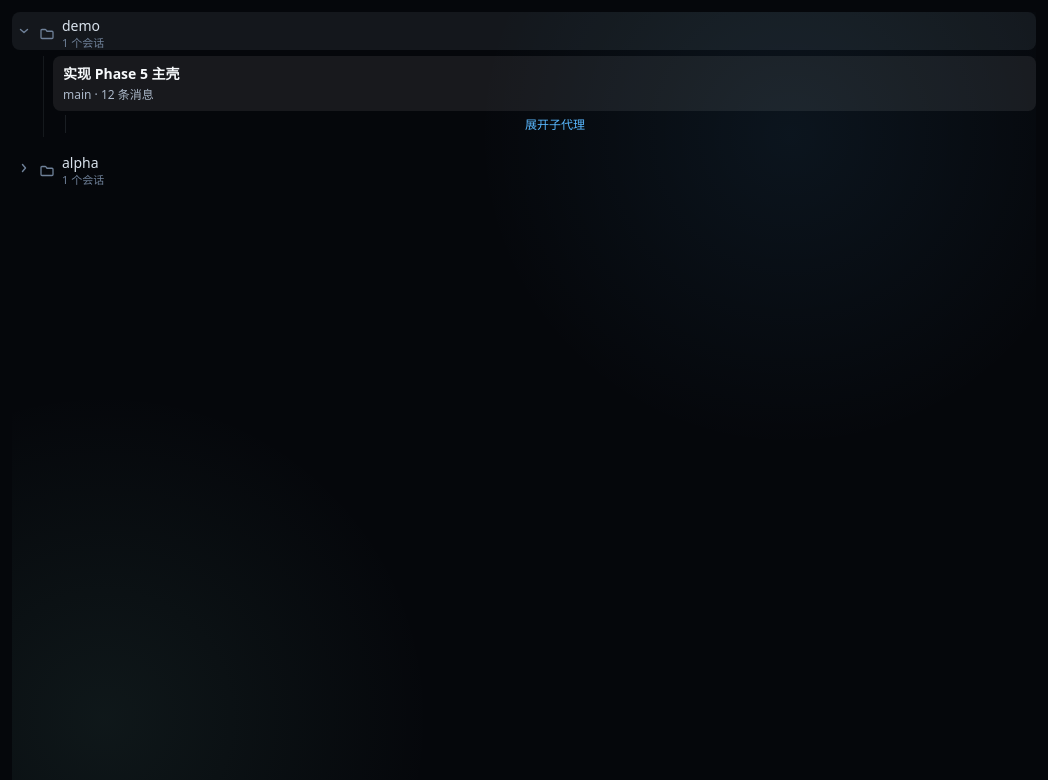
Test case: project session trees › 展示最近项目列表与项目内会话树
Expected: the text "demo" is shown, [62,16,100,34]
Expected: the text "alpha" is shown, [62,152,99,172]
Click the button named "展开 alpha 项目会话".
click(23, 168)  # box [12,153,34,183]
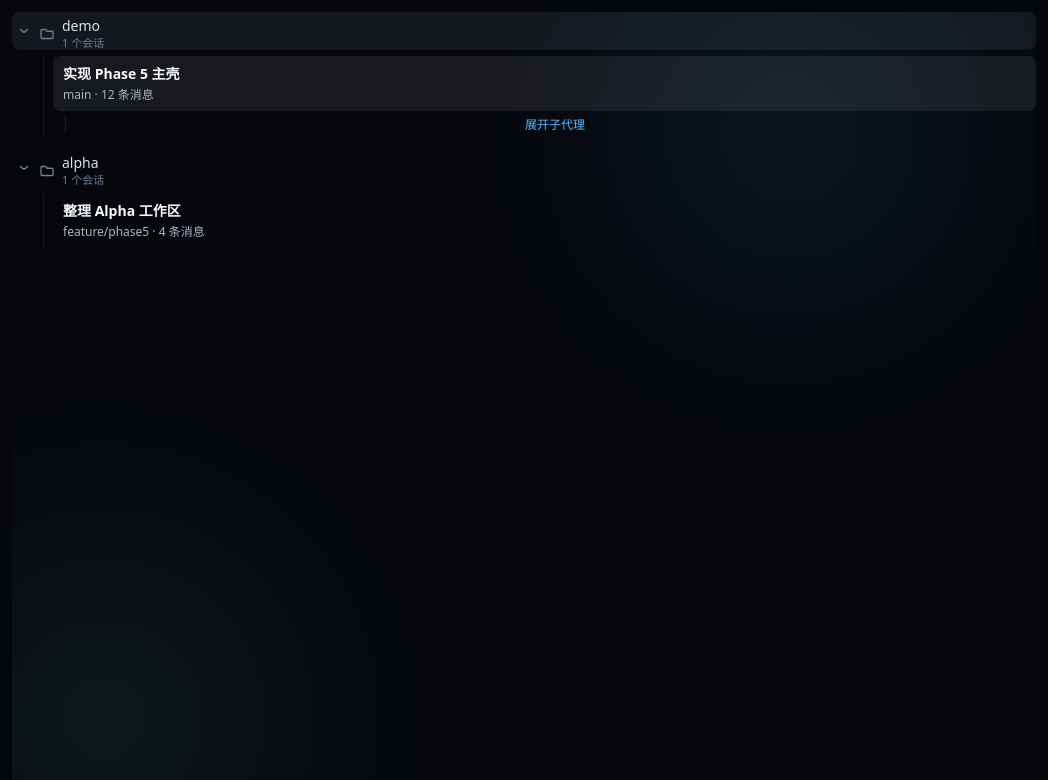
Result: the text "整理 Alpha 工作区" is shown at [63,200,181,220]
